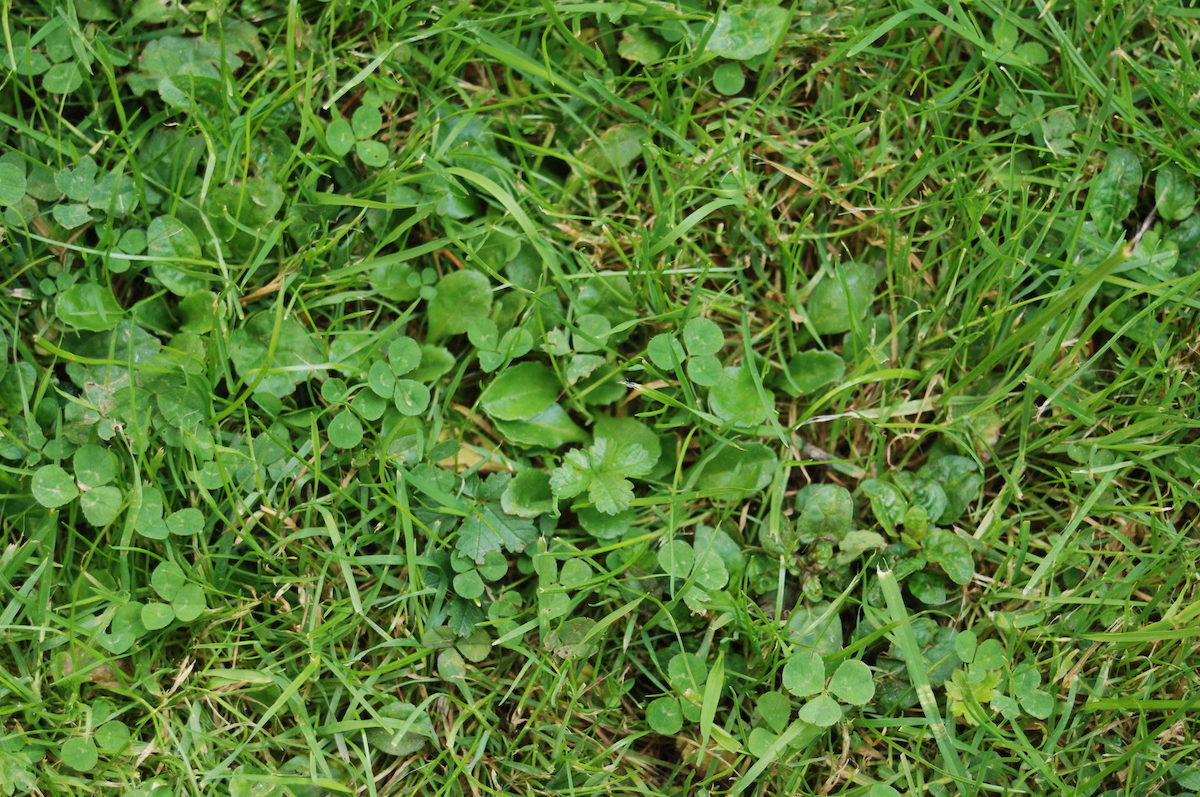clover: (11, 9, 1187, 788)
